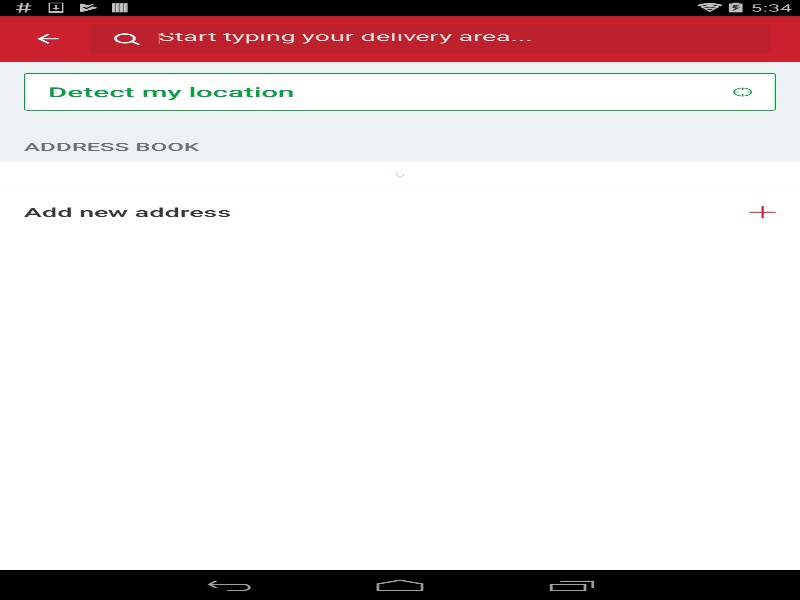Input: (140, 24, 770, 53)
